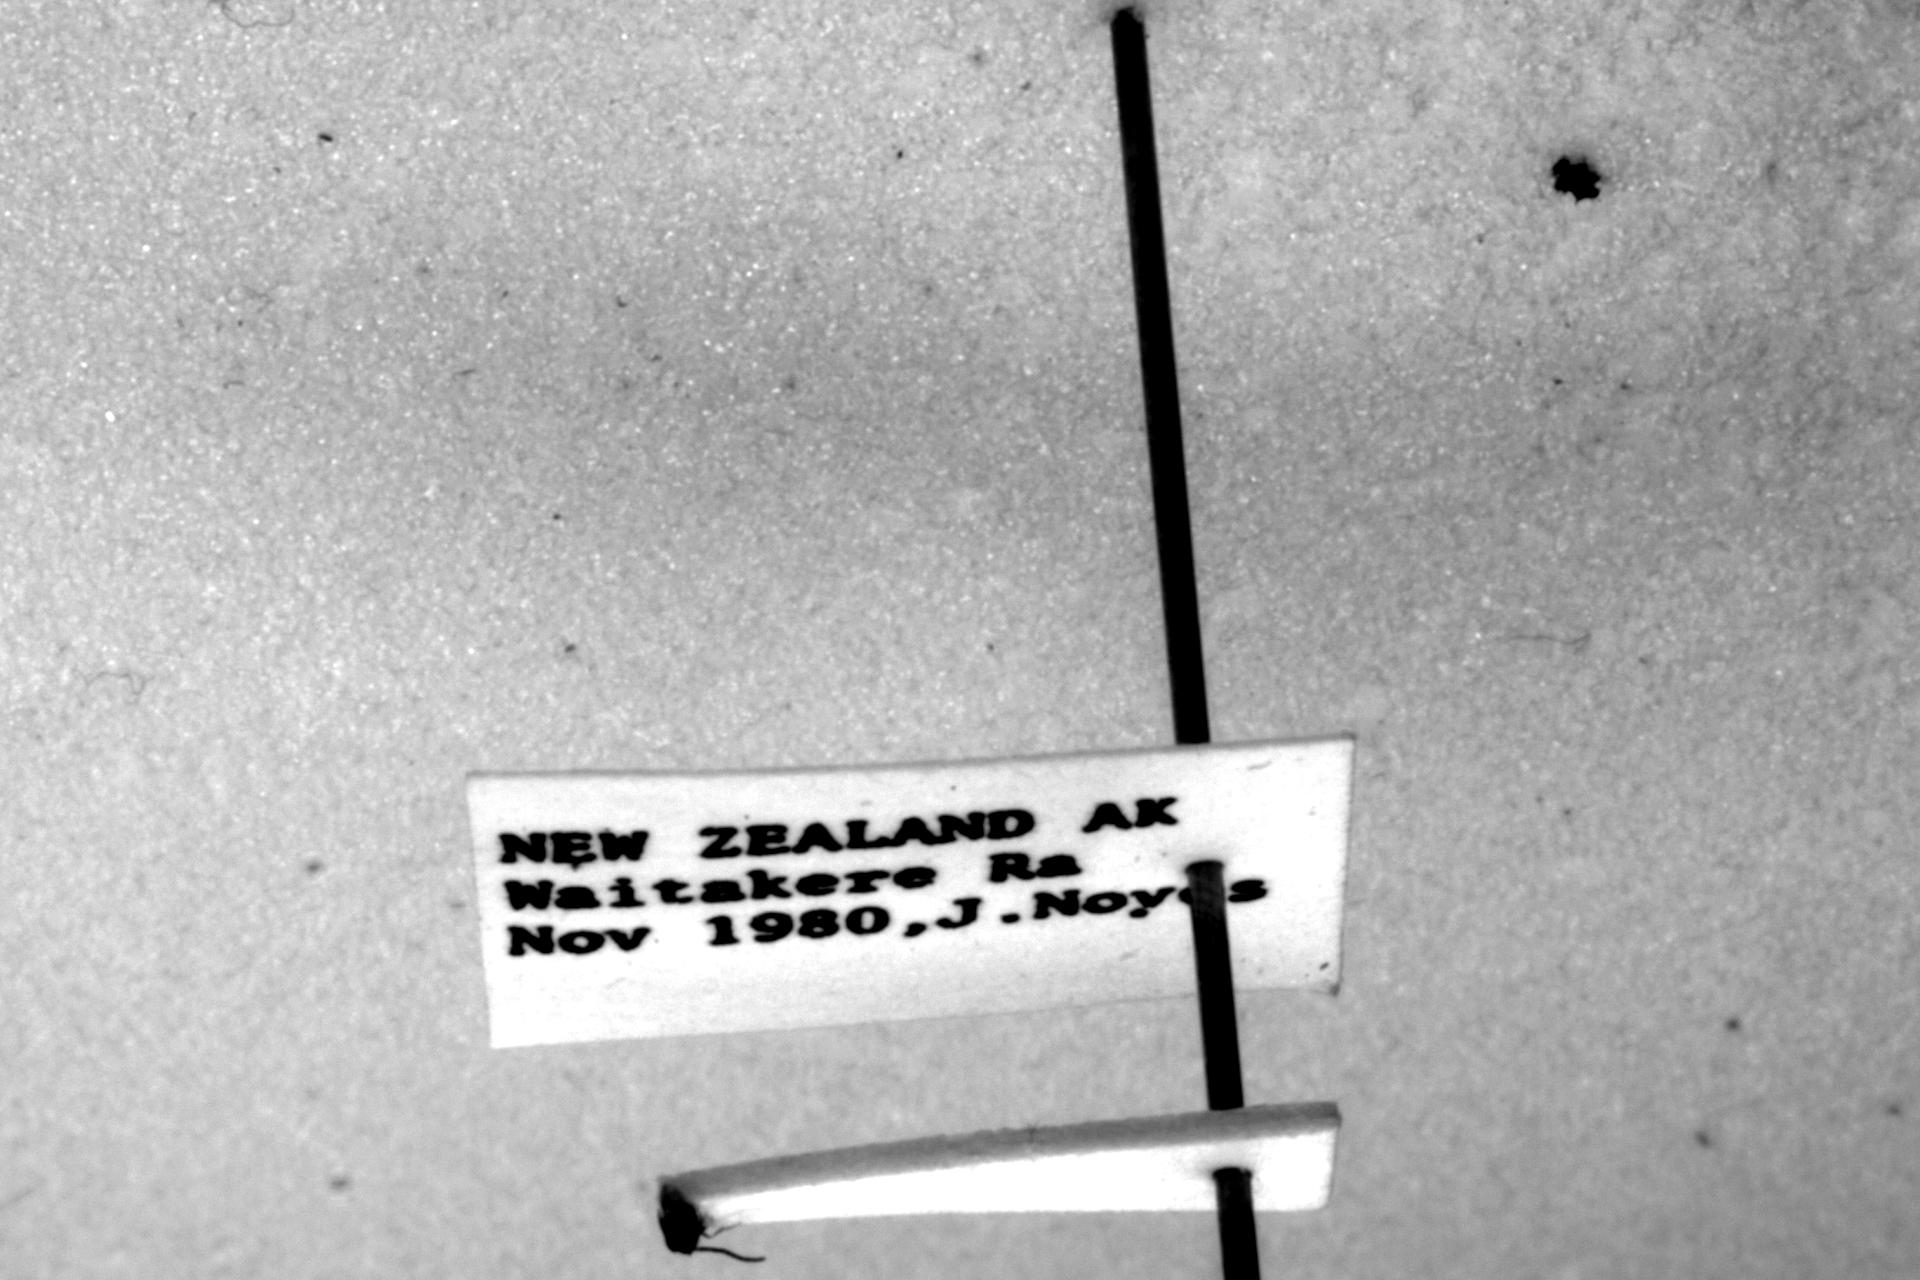typed_label: (465, 739, 1354, 1046)
